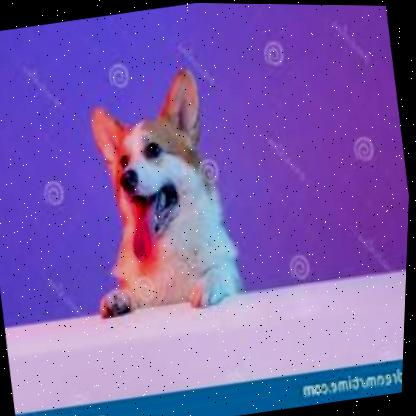dog: (62, 60, 255, 324)
